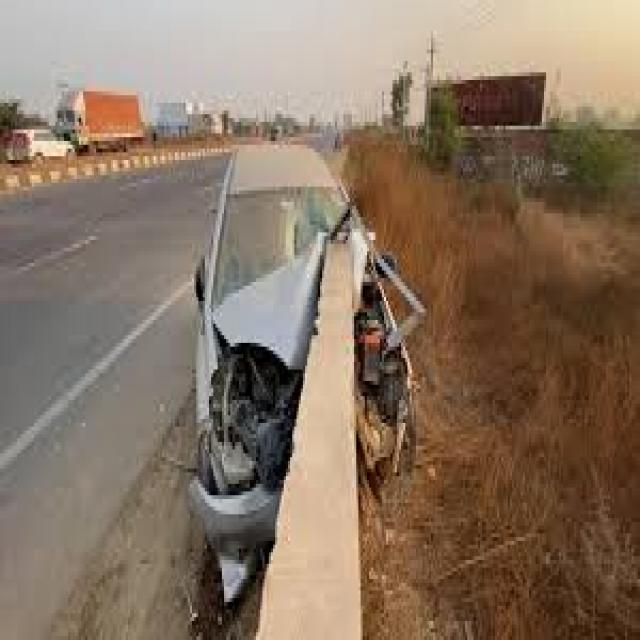accident: (191, 121, 420, 564)
